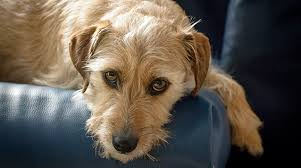dog: (1, 1, 267, 162)
